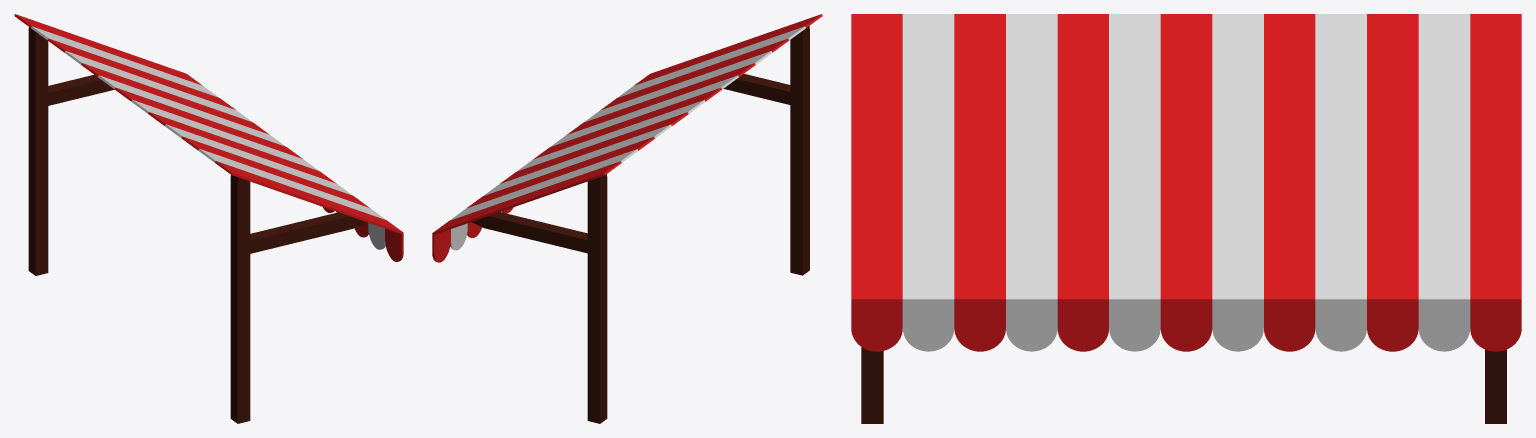
The model's file is Awning.fbx.
3 renders of one model, left to right at view 1: azimuth 30°, elevation 25°; view 2: azimuth 150°, elevation 25°; view 3: azimuth 270°, elevation 25°, orthographic. The views are drawn at different scales.
Visible parts, largest first — view 1: group_pasted__pCube5; view 2: group_pasted__pCube5; view 3: group_pasted__pCube5.
Part boxes in pixels (x1=…): group_pasted__pCube5: x1=14, y1=14, x2=403, y2=423; group_pasted__pCube5: x1=432, y1=14, x2=822, y2=423; group_pasted__pCube5: x1=851, y1=14, x2=1521, y2=423.
Size of the model in its own units: 2.35 by 3.32 by 5.13.
